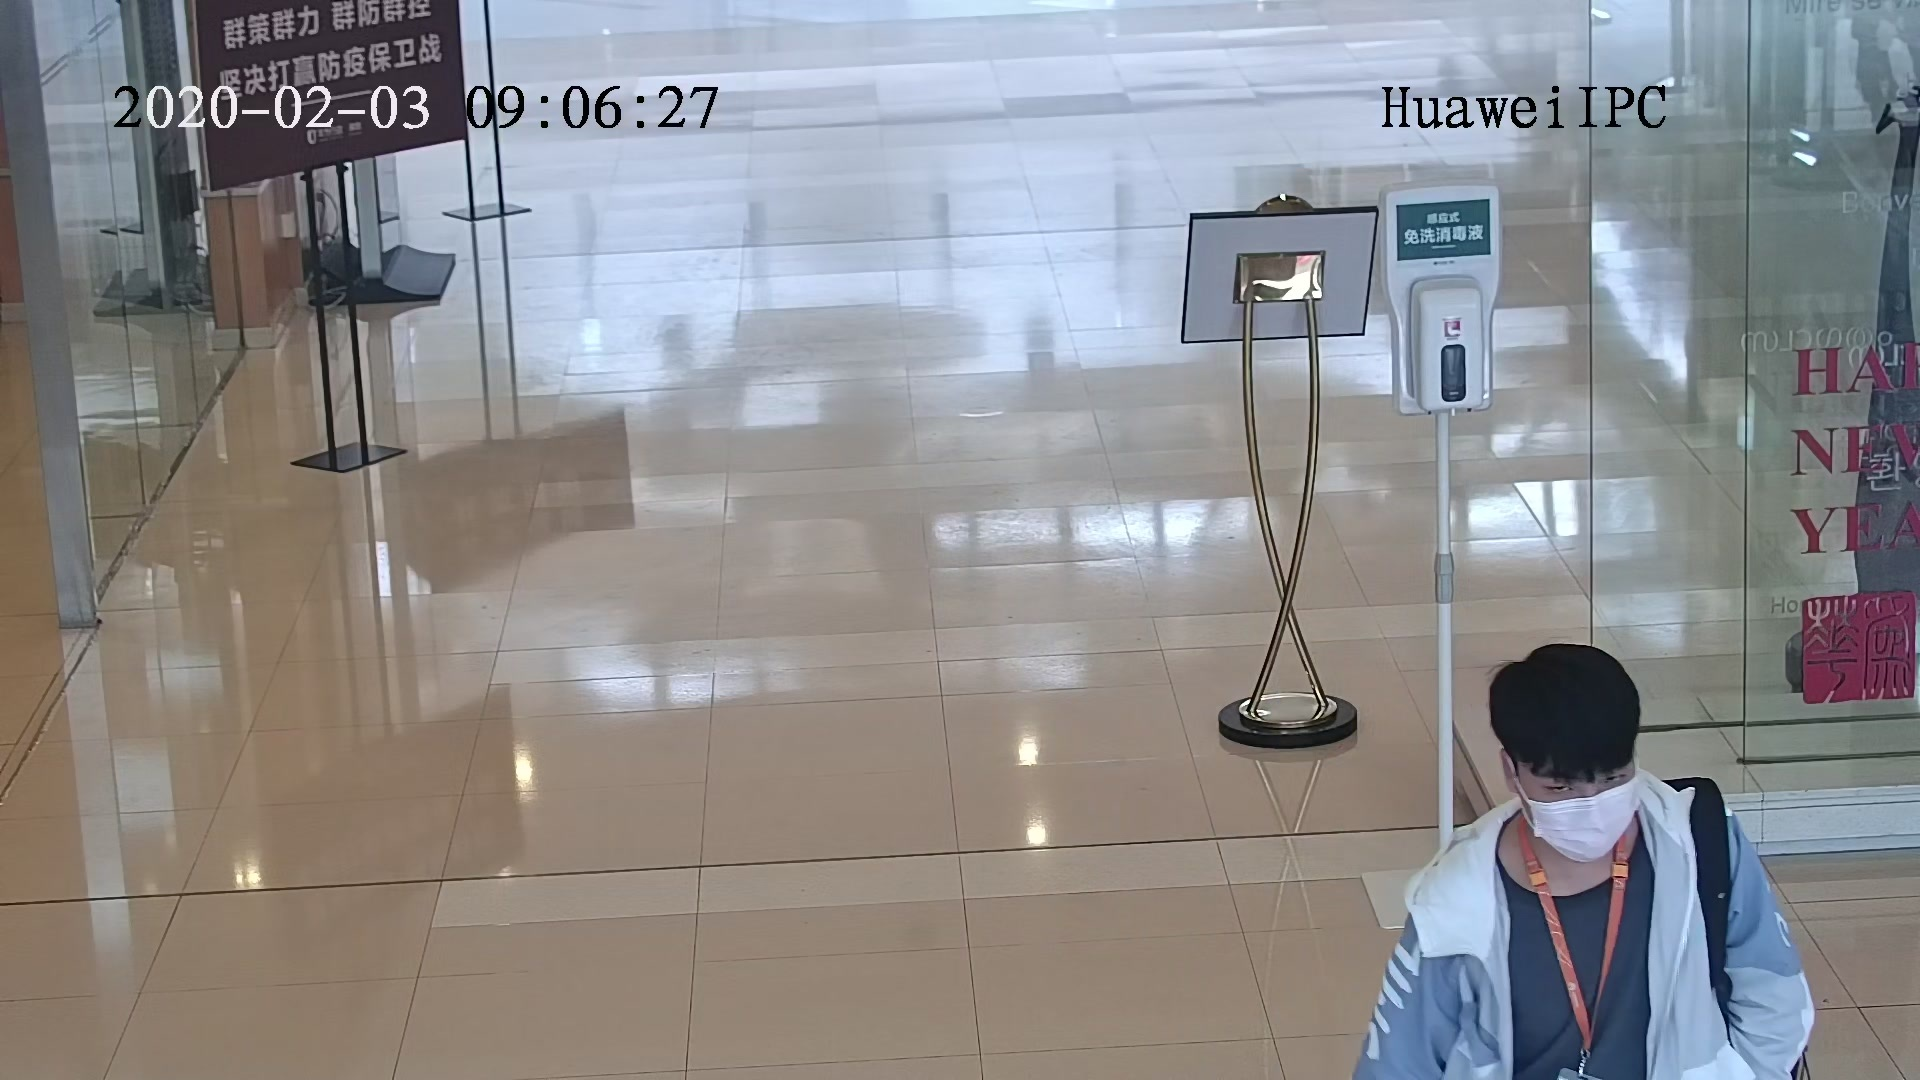face: (1512, 734, 1644, 866)
mask: (1527, 783, 1634, 854)
person: (1415, 635, 1774, 944)
